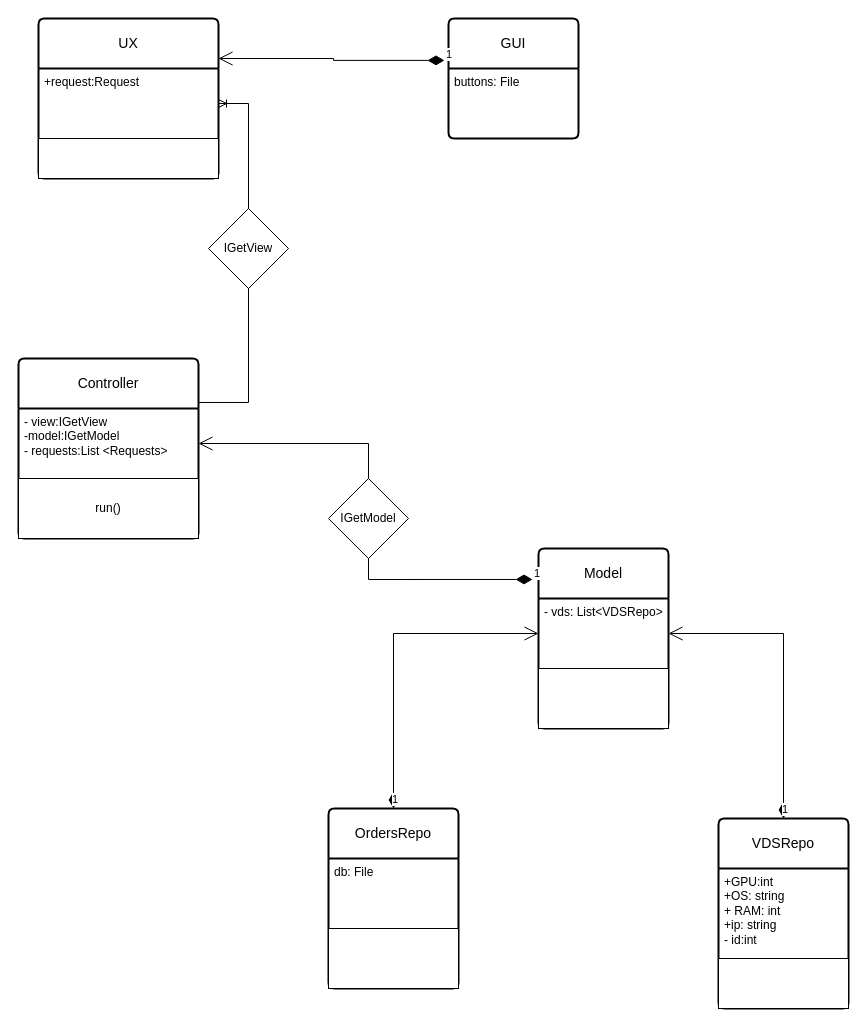
The diagram is 866 pixels wide and 1026 high, and some of its shapes have lost their labels. The shapes that lost their labels are listed below. From the top down, each one's centre as x and y in pixels, then its label:
(x=128, y=158): prompt(String)
(x=603, y=698): createVDS() deleteVDS(id)
(x=393, y=958): saveorder() deleteorder()
(x=783, y=983): getters... setters...
